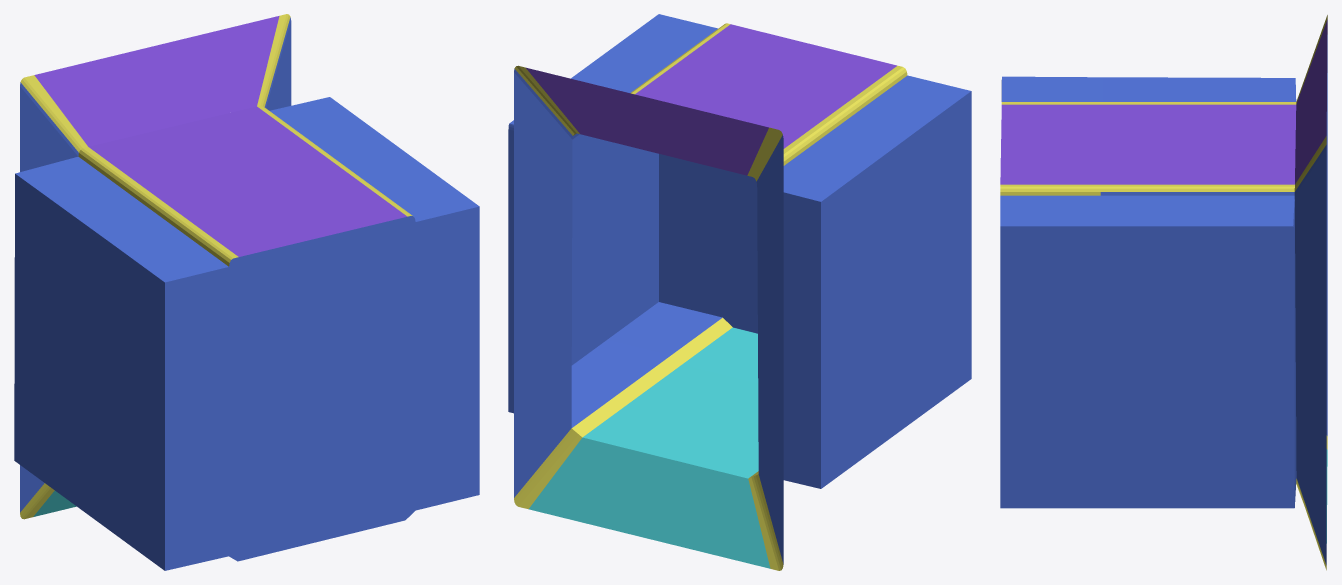
The model's file is Room.fbx.
3 views of the same model, side by side, from view 1: azimuth 30°, elevation 25°; view 2: azimuth 150°, elevation 25°; view 3: azimuth 270°, elevation 25° (orthographic). The views are drawn at different scales.
Visible parts, largest first — view 1: Cube; view 2: Cube; view 3: Cube.
Part boxes in pixels (x1,y1,x2,y2): Cube: (14, 14, 479, 570); Cube: (508, 14, 971, 570); Cube: (1000, 15, 1327, 570).
Size of the model in its own units: 700 by 941 by 646.
